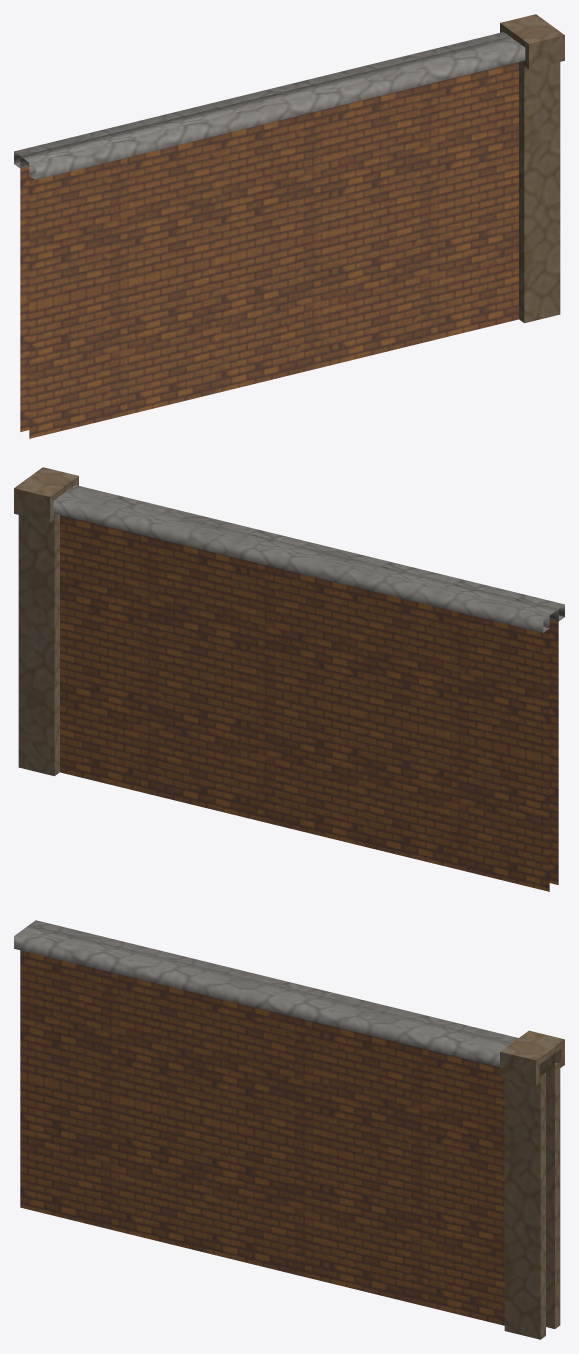
The model's file is Wall_01.fbx.
3 views of the same model, one above another, from view 1: azimuth 30°, elevation 25°; view 2: azimuth 150°, elevation 25°; view 3: azimuth 330°, elevation 25° (orthographic).
Parts seen in each view (by area): view 1: Wall_01_2, Wall_01_1; view 2: Wall_01_2, Wall_01_1; view 3: Wall_01_2, Wall_01_1.
Part boxes in pixels (left/top/right/bottom): Wall_01_2: left=20, top=36, right=518, bottom=438; Wall_01_1: left=14, top=14, right=564, bottom=323; Wall_01_2: left=60, top=490, right=558, bottom=891; Wall_01_1: left=14, top=467, right=564, bottom=776; Wall_01_2: left=20, top=925, right=554, bottom=1328; Wall_01_1: left=14, top=920, right=564, bottom=1339.
Size of the model in its own units: 8.35 by 4.29 by 0.7951.
